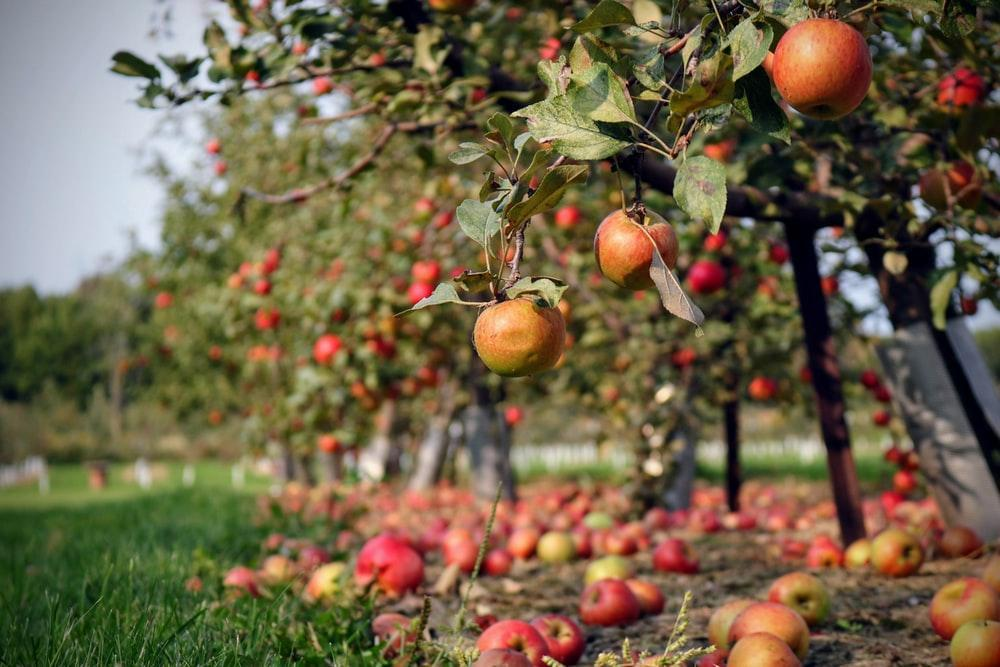apple: (771, 16, 875, 118), (591, 202, 680, 296), (471, 294, 568, 375), (927, 576, 996, 641), (727, 601, 809, 648), (474, 617, 551, 666), (766, 571, 830, 626), (867, 526, 921, 578), (947, 617, 997, 667), (533, 613, 584, 658)
